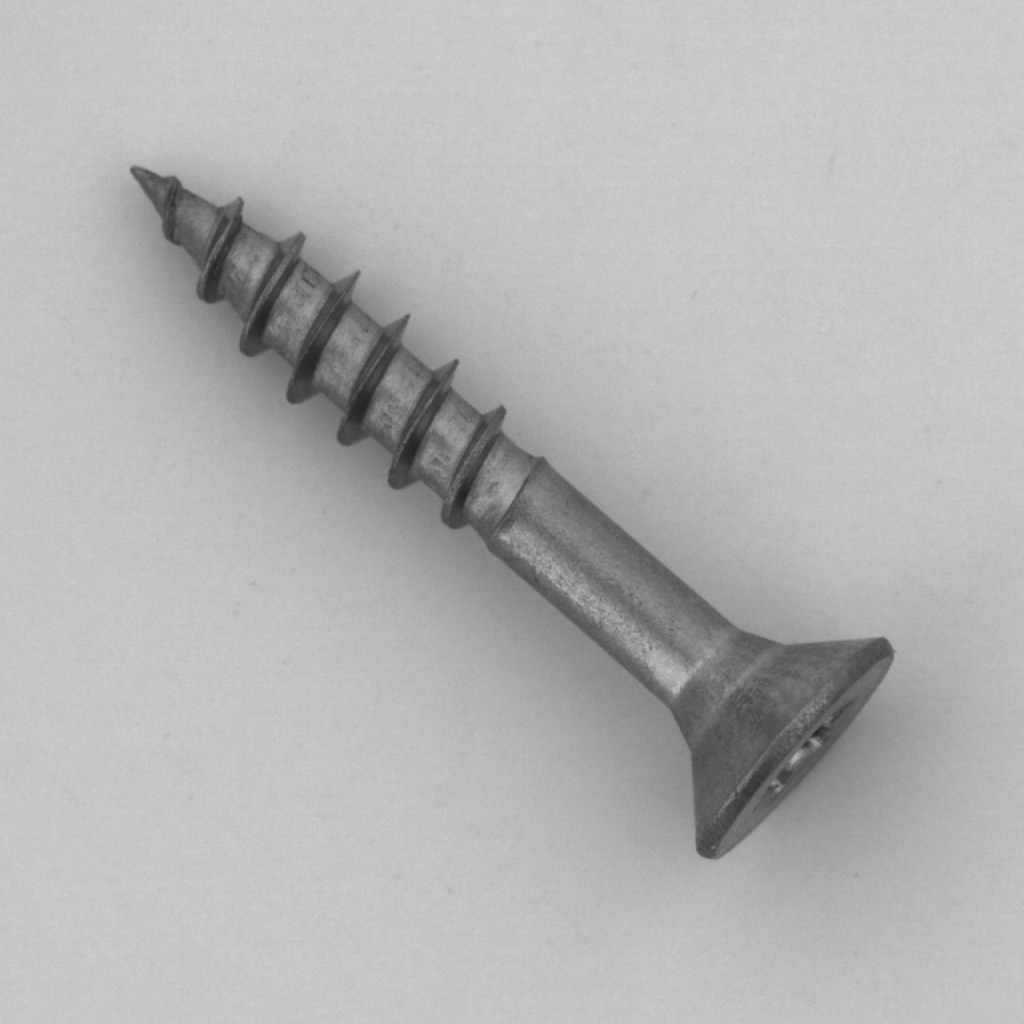good: (111, 145, 915, 873)
